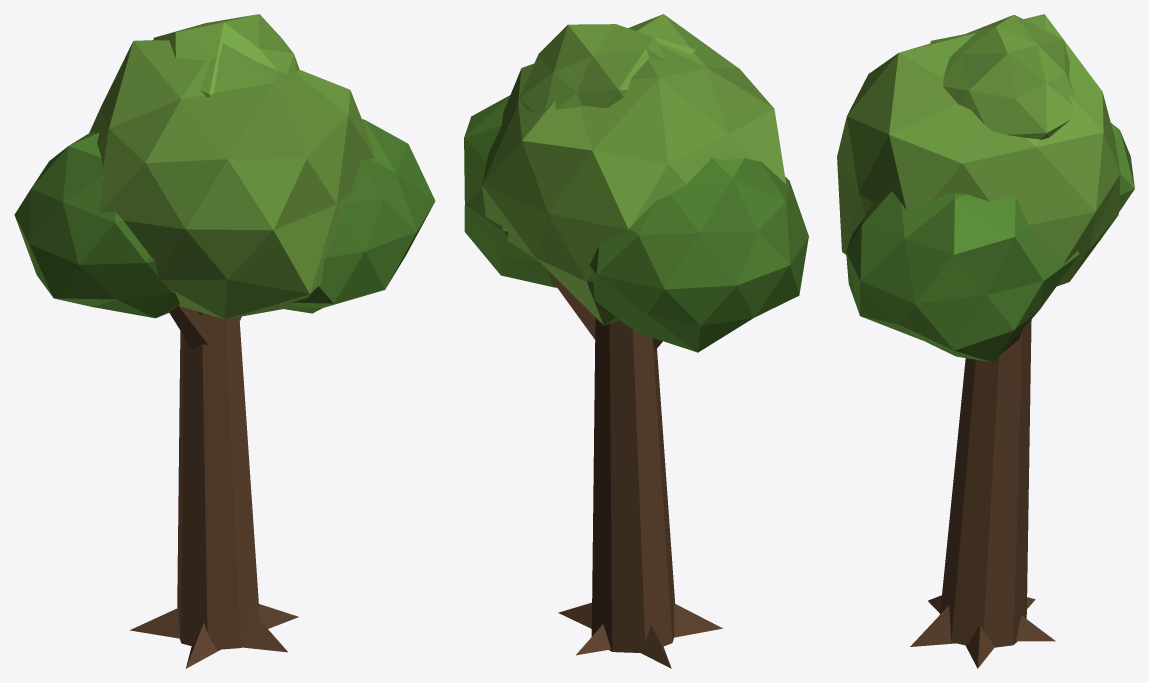
The model's file is oak_c.glb.
3 views of the same model, side by side, from view 1: azimuth 30°, elevation 25°; view 2: azimuth 150°, elevation 25°; view 3: azimuth 270°, elevation 25° (orthographic).
Parts seen in each view (by area): view 1: oak_c; view 2: oak_c; view 3: oak_c.
Part boxes in pixels (<box>): oak_c: <box>14,14,435,668</box>; oak_c: <box>464,14,808,668</box>; oak_c: <box>837,14,1134,668</box>.
Bounding box in the file's own units: 3.1 × 5.06 × 2.23.
Materials: 1 (1 with a texture image).
